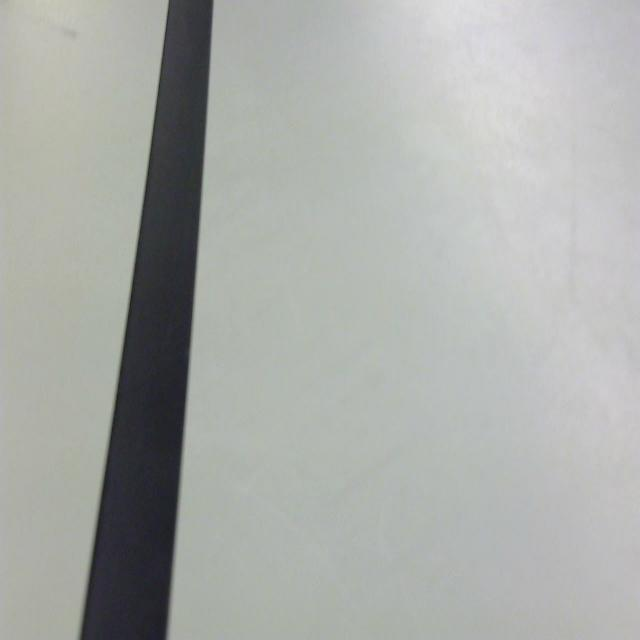tape: (46, 0, 231, 640)
